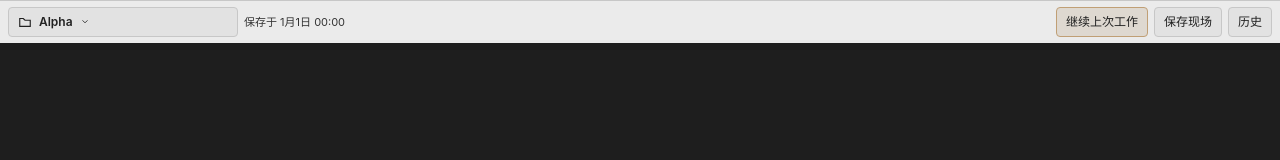
Test: project-centered scene controls › shows a readable project and directly continues its latest scene without two selectors
Expected: the button "Alpha" is shown, [8,7,238,37]
What coordinates should you click on to do the following:
click the button "继续上次工作"
I would click on:
 (1102, 22)
Its box is [1056,7,1148,37].
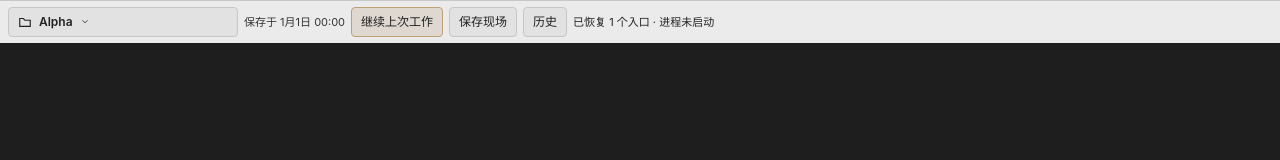
Now the message "已恢复 1 个入口 · 进程未启动" is shown, box [573,15,714,29]
